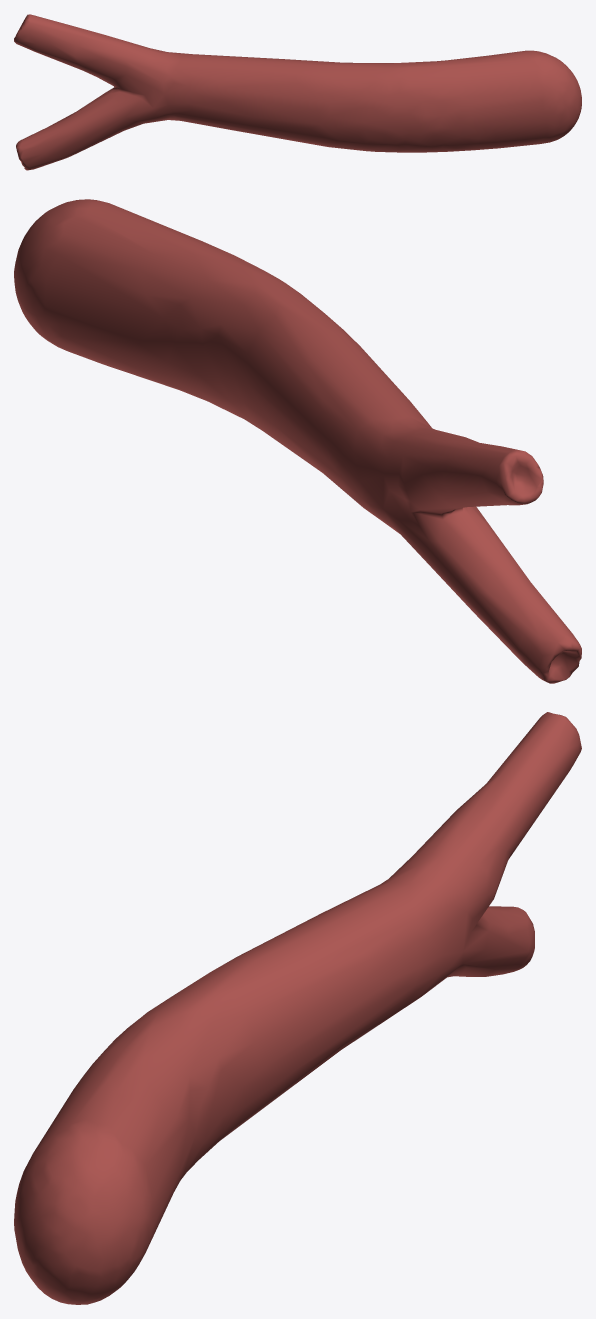
The model's file is FMA14752.glb.
3 renders of one model, top to bottom at view 1: azimuth 30°, elevation 25°; view 2: azimuth 150°, elevation 25°; view 3: azimuth 270°, elevation 25°, orthographic. The views are drawn at different scales.
Parts seen in each view (by area): view 1: FMA14752; view 2: FMA14752; view 3: FMA14752.
Part boxes in pixels (box(x1,y1,x2,y2)): FMA14752: box(14, 14, 581, 170); FMA14752: box(14, 199, 581, 683); FMA14752: box(14, 712, 581, 1304).
Bounding box in the file's own units: 0.0736 × 0.0225 × 0.0436.
